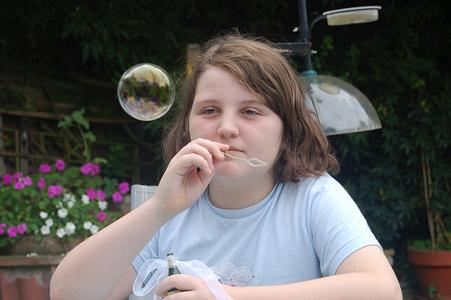person: (47, 32, 405, 300)
